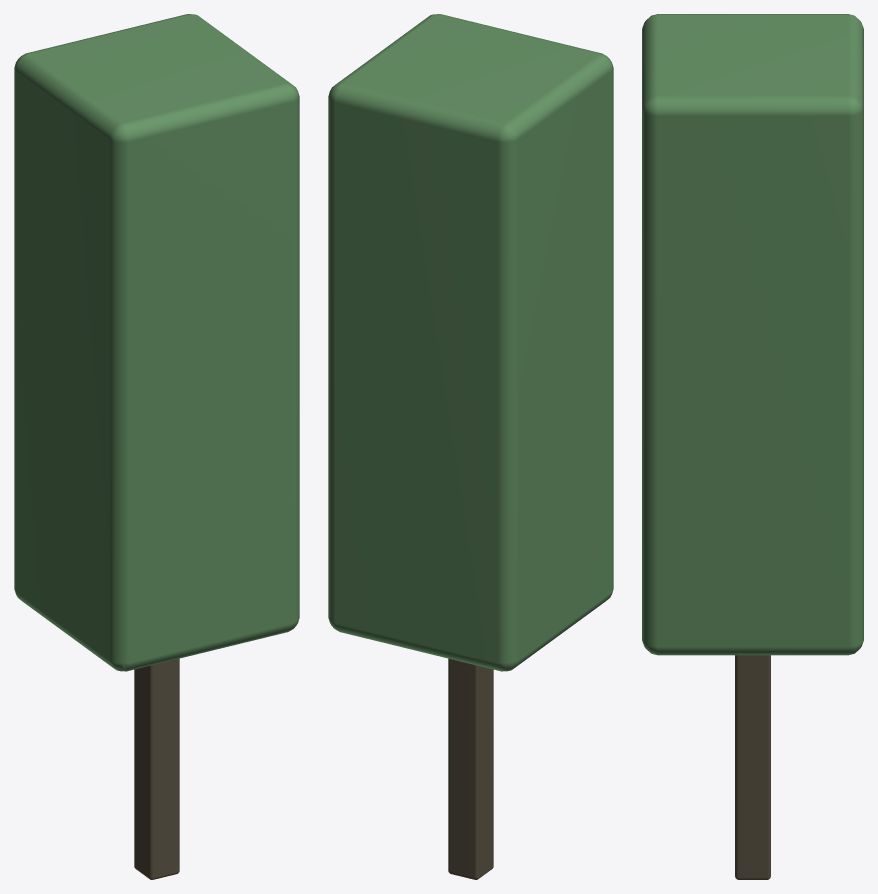
The model's file is Tree_008.fbx.
The picture shows the model from 3 angles, left to right: view 1: azimuth 30°, elevation 25°; view 2: azimuth 150°, elevation 25°; view 3: azimuth 270°, elevation 25°; orthographic projection.
Visible parts, largest first — view 1: tree_008; view 2: tree_008; view 3: tree_008.
Part boxes in pixels (bbox=[...]): tree_008: bbox=[14, 14, 299, 879]; tree_008: bbox=[328, 14, 613, 879]; tree_008: bbox=[642, 14, 863, 879].
Bounding box in the file's own units: 1.51 × 6.16 × 1.51.
